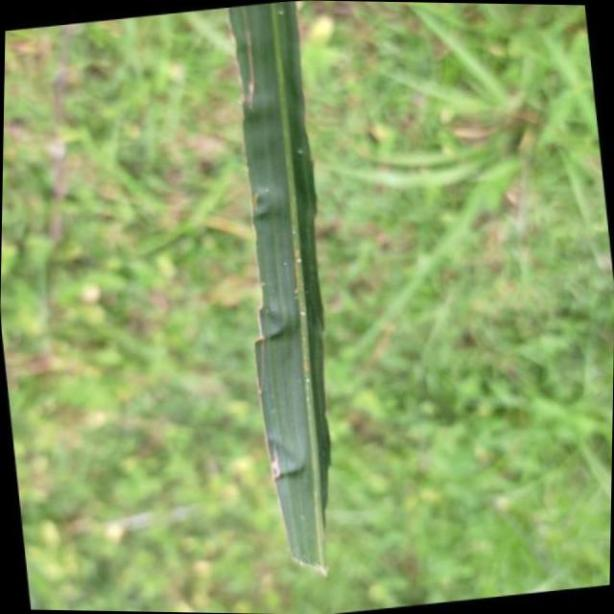Boron: (230, 0, 333, 581)
